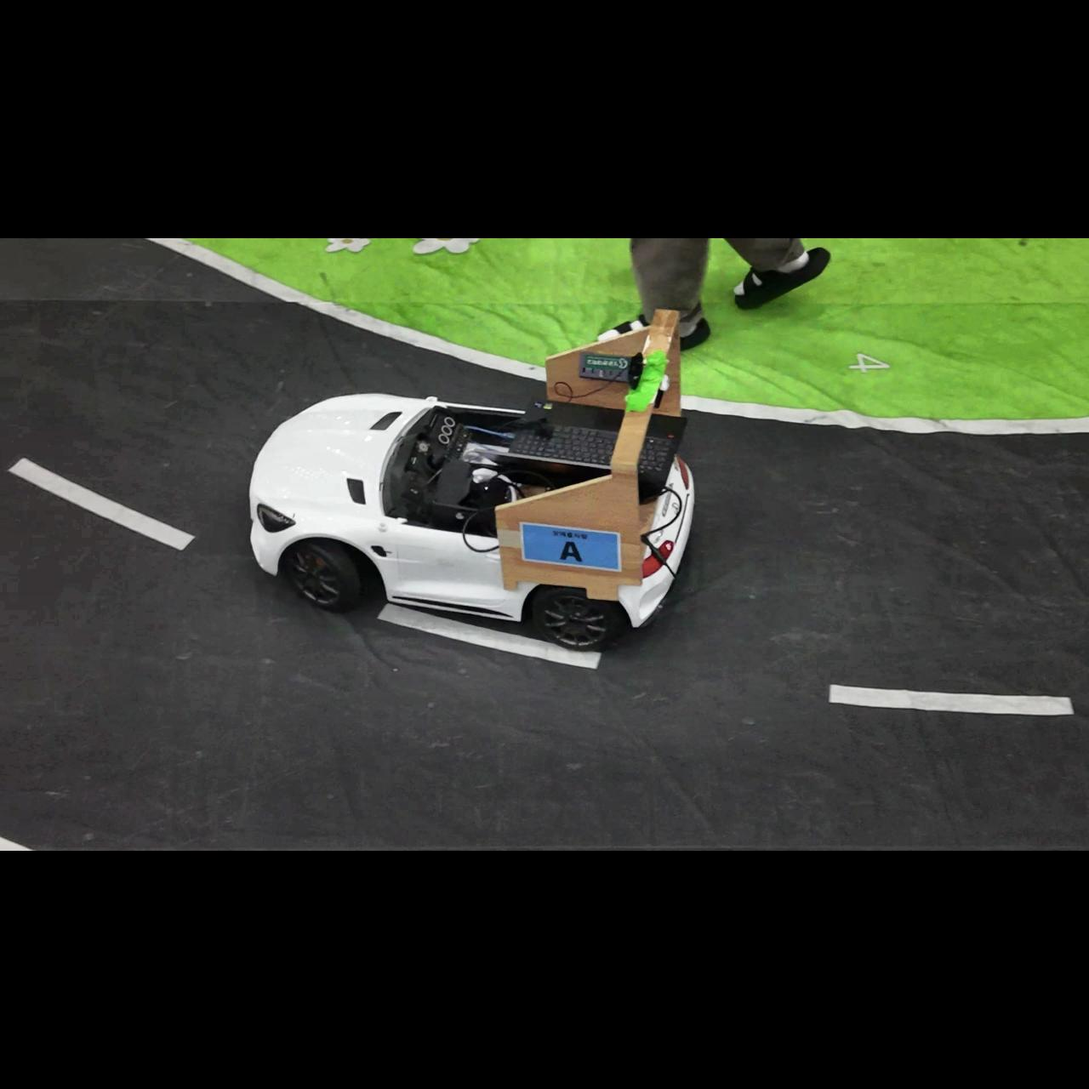broken_line: (7, 458, 195, 550), (376, 603, 601, 669), (828, 684, 1074, 715)
